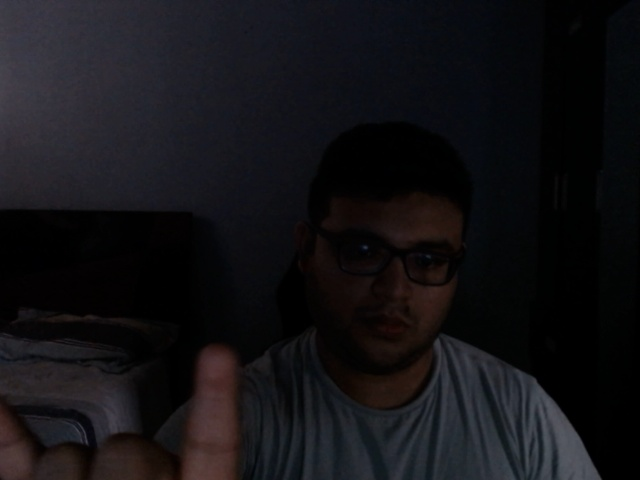I love you: (1, 341, 238, 480)
